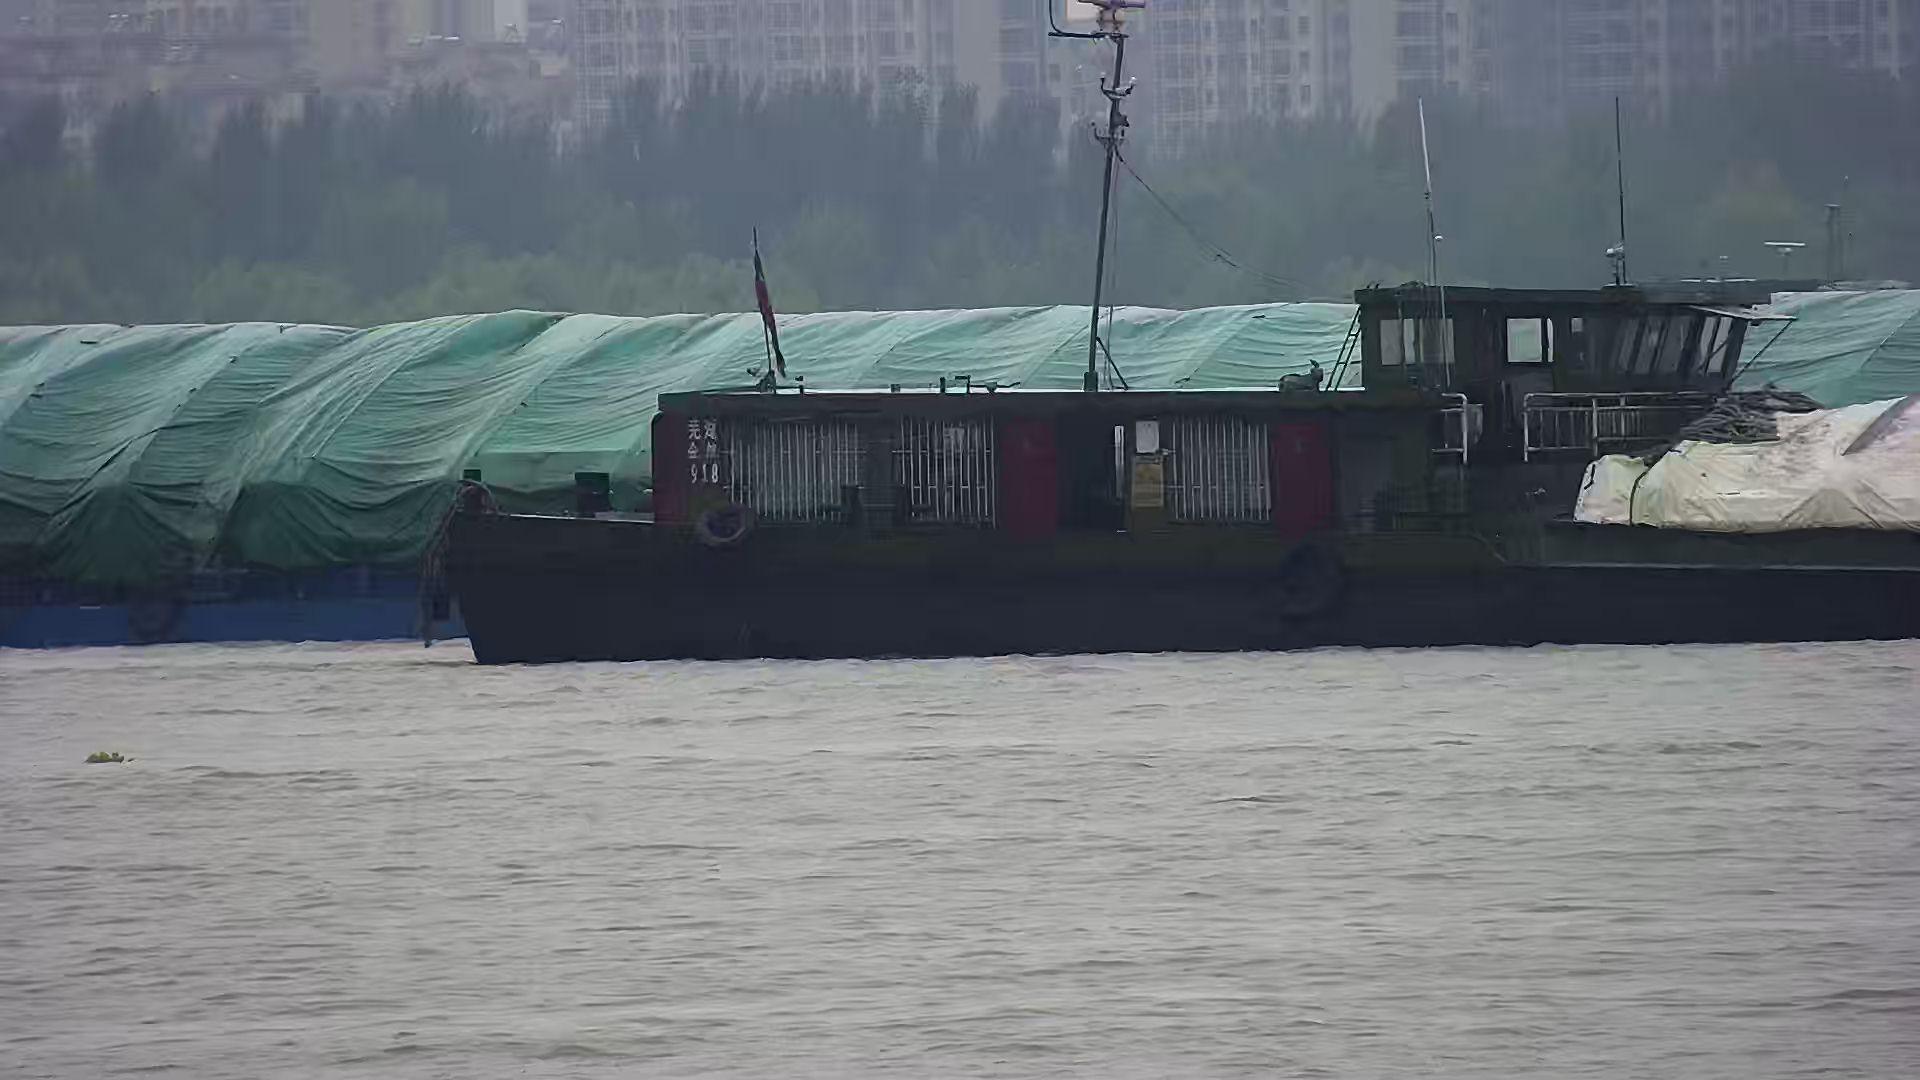ship: (3, 287, 1920, 649), (547, 231, 1920, 665)
